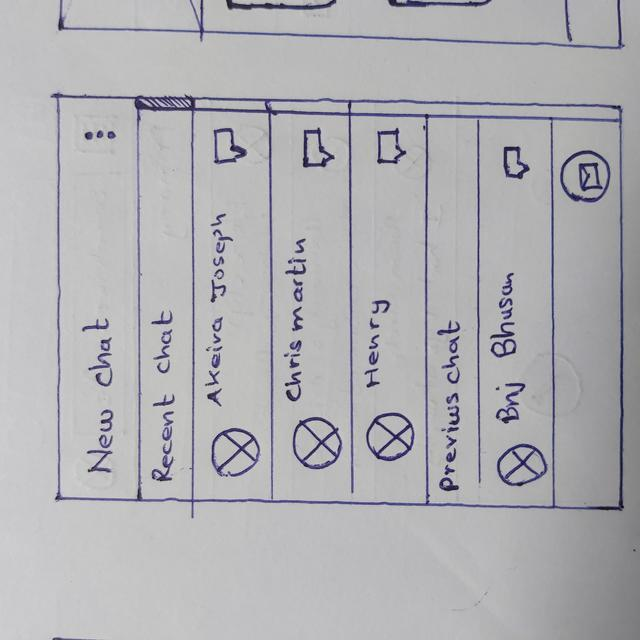AppBar: (55, 94, 144, 502)
Fab: (560, 151, 611, 203)
Icon: (373, 124, 410, 170), (299, 125, 334, 170), (212, 129, 248, 168), (504, 143, 533, 182), (83, 125, 118, 144)
Layout: (346, 113, 432, 504), (269, 111, 355, 500), (191, 113, 274, 499), (475, 114, 550, 504)
ListView: (192, 111, 432, 505), (475, 118, 557, 507)
MainLayout: (52, 91, 629, 513)
RoundedImage: (207, 427, 262, 479), (292, 416, 344, 470), (365, 413, 416, 460), (495, 444, 549, 487)
ScrollBar: (138, 95, 621, 120)
ScrollView: (137, 112, 622, 506)
TextView: (83, 320, 118, 476), (434, 324, 462, 497), (491, 269, 521, 430), (150, 313, 177, 483), (208, 210, 228, 405), (285, 239, 306, 408), (361, 297, 388, 397)
VerticalListView: (194, 113, 430, 506), (475, 119, 554, 505)
